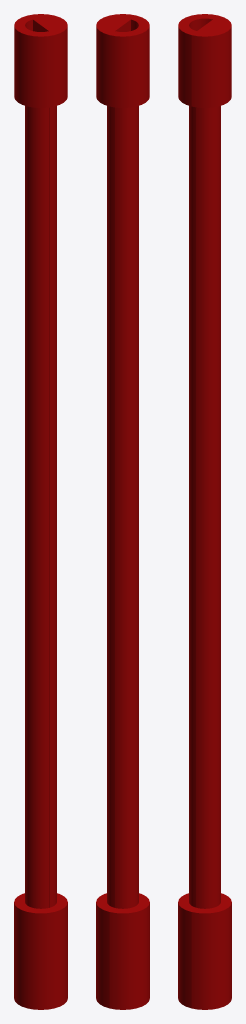
File: original-10.obj
3 renders of one model, left to right at view 1: azimuth 30°, elevation 25°; view 2: azimuth 150°, elevation 25°; view 3: azimuth 330°, elevation 25°, orthographic.
Visible parts, largest first — view 1: mesh10/mesh10-geometry#mesh10-geometry; view 2: mesh10/mesh10-geometry#mesh10-geometry; view 3: mesh10/mesh10-geometry#mesh10-geometry.
Boxes of the visible parts, x1,y1,x2,y2 form: mesh10/mesh10-geometry#mesh10-geometry: [14, 14, 67, 1009]; mesh10/mesh10-geometry#mesh10-geometry: [96, 14, 149, 1009]; mesh10/mesh10-geometry#mesh10-geometry: [178, 14, 231, 1009].
Bounding box in the file's own units: 0.0555 × 1.11 × 0.0555.
